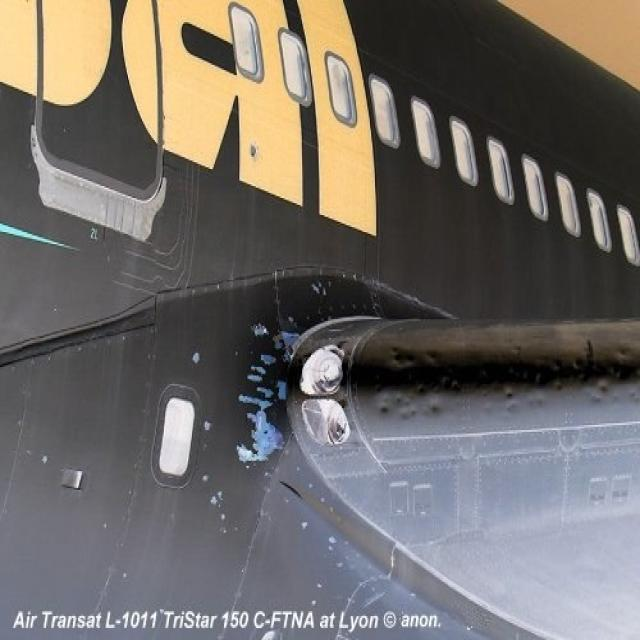dent: (375, 343, 640, 426)
